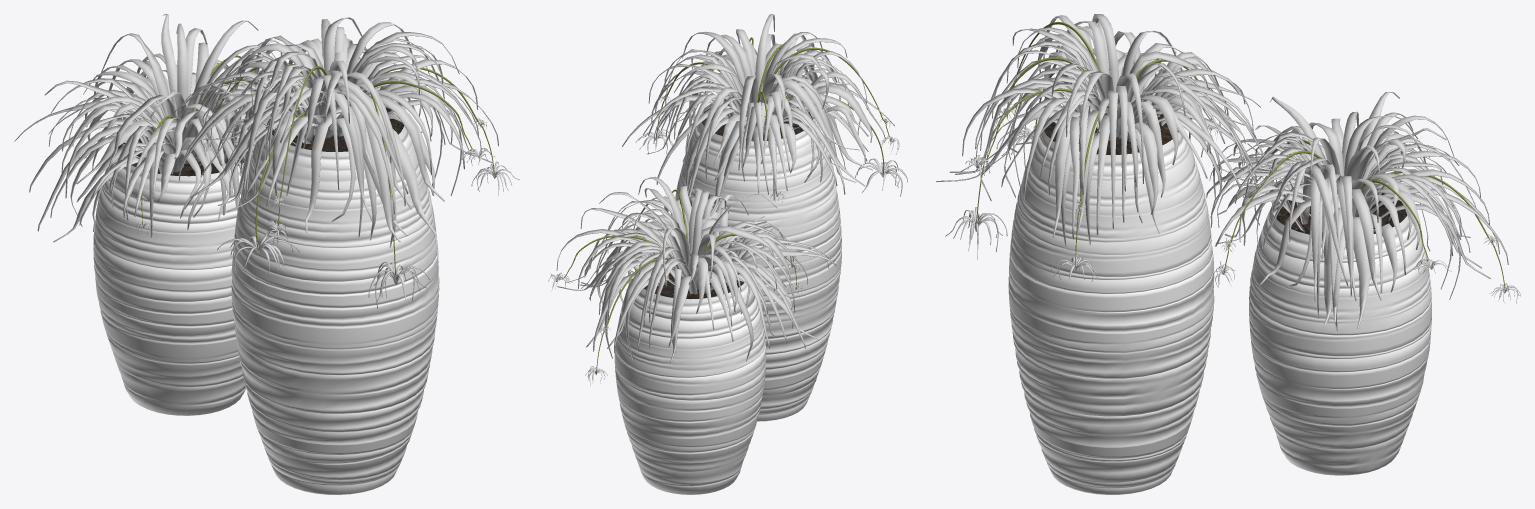
File: Pot Plant.glb
3 views of the same model, side by side, from view 1: azimuth 30°, elevation 25°; view 2: azimuth 150°, elevation 25°; view 3: azimuth 270°, elevation 25° (orthographic). The views are drawn at different scales.
Visible parts, largest first — view 1: Cylinder, Spider Plant_Pot, Cylinder.003, Spider Plant_Pot.001; view 2: Cylinder.003, Spider Plant_Pot, Spider Plant_Pot.001, Cylinder; view 3: Cylinder, Cylinder.003, Spider Plant_Pot, Spider Plant_Pot.001.
Boxes of the visible parts, box(x1,y1,x2,y2) form: Cylinder: box(231, 98, 439, 494); Spider Plant_Pot: box(169, 17, 519, 308); Cylinder.003: box(93, 145, 254, 415); Spider Plant_Pot.001: box(14, 14, 282, 242); Cylinder.003: box(614, 269, 766, 494); Spider Plant_Pot: box(622, 14, 907, 215); Spider Plant_Pot.001: box(548, 177, 836, 385); Cylinder: box(675, 103, 841, 421); Cylinder: box(1008, 105, 1214, 494); Cylinder.003: box(1249, 193, 1431, 475); Spider Plant_Pot: box(936, 14, 1277, 284); Spider Plant_Pot.001: box(1206, 92, 1520, 331).
Bounding box in the file's own units: 0.5784 × 0.7024 × 0.8661.
Materials: 4 (1 with a texture image).
